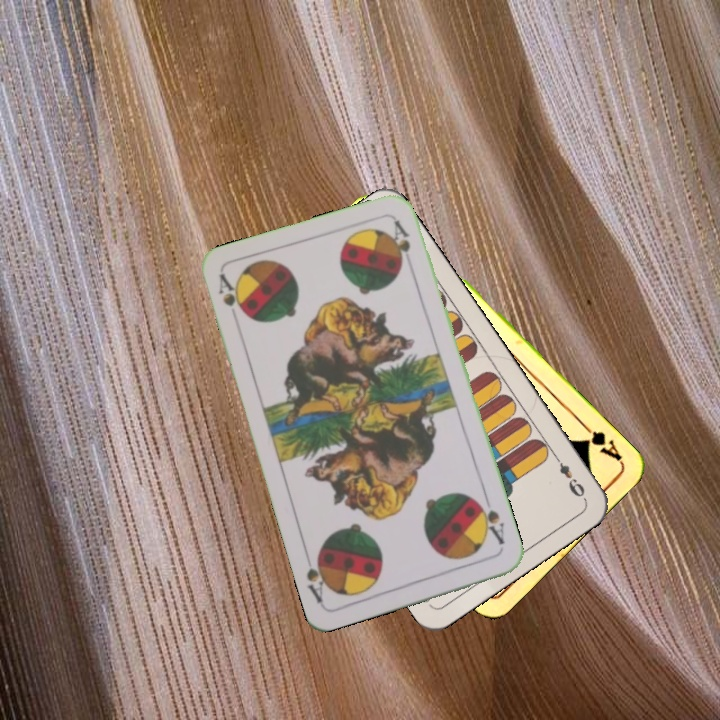E9: (549, 450, 588, 502)
GA: (576, 418, 625, 464)
SA: (214, 270, 249, 328), (472, 493, 507, 548)
